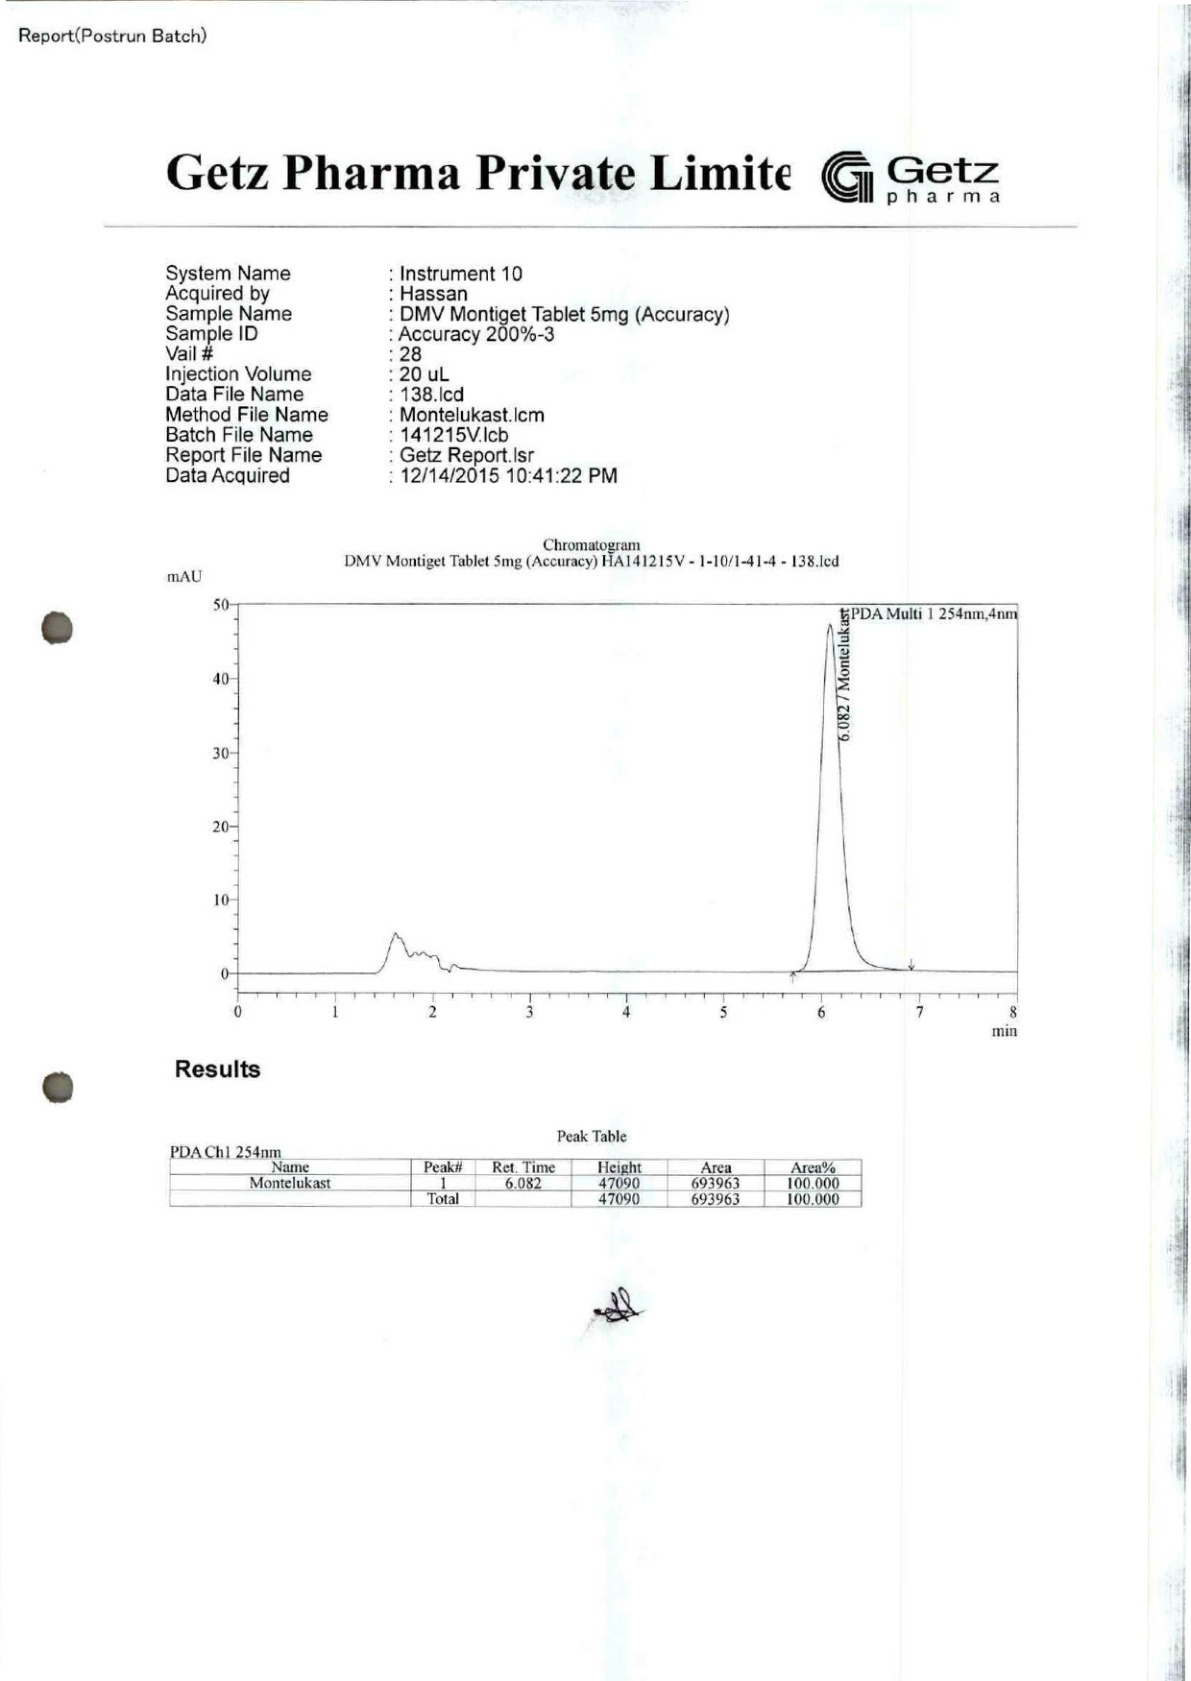full_lined: (168, 1156, 864, 1210)
nolines: (160, 263, 733, 489)
